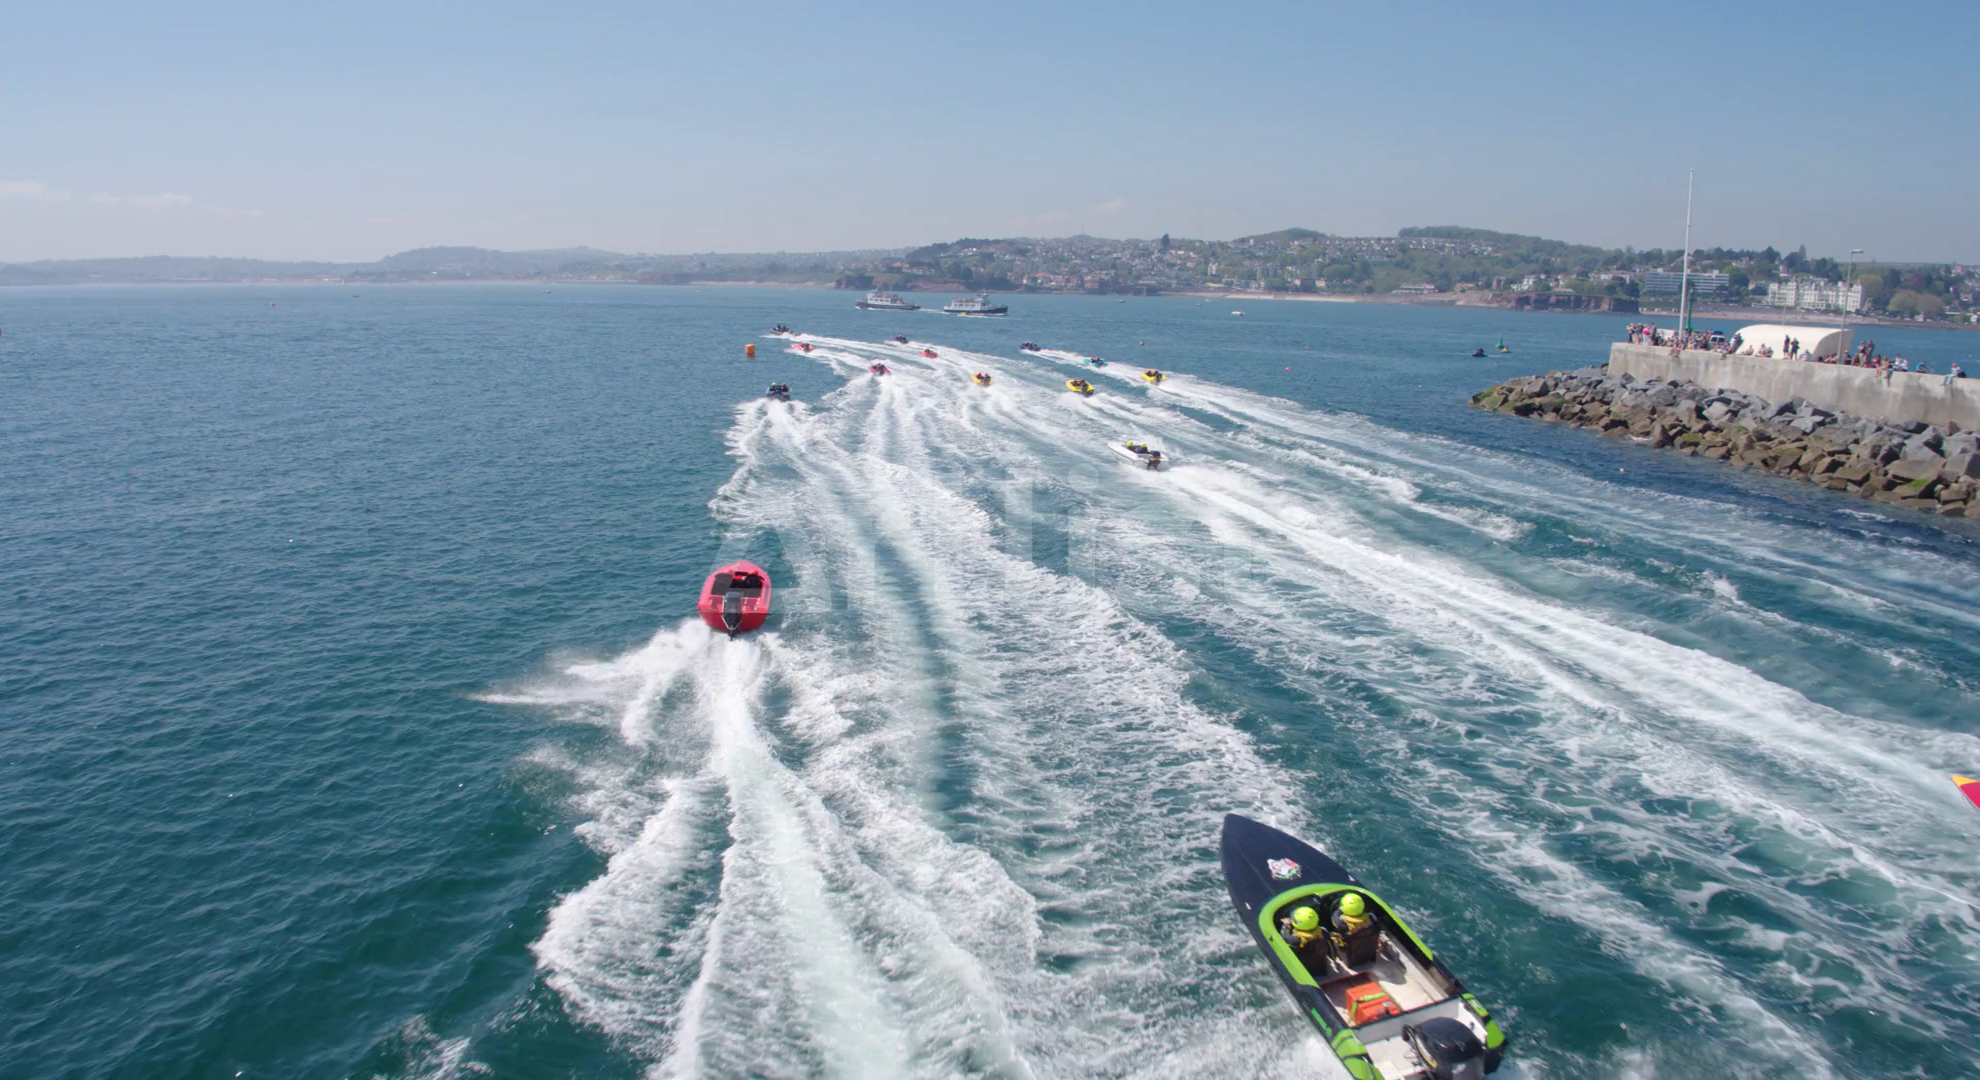boat: (1215, 839, 1457, 1052), (702, 545, 767, 640), (1120, 435, 1164, 470), (758, 384, 793, 408), (1069, 376, 1101, 399), (1017, 337, 1044, 358), (866, 360, 891, 380), (969, 367, 992, 387), (795, 337, 815, 355), (1149, 364, 1165, 386), (892, 335, 912, 348), (915, 347, 933, 358)
ship: (945, 297, 1005, 315), (863, 294, 918, 310), (745, 343, 761, 362)
